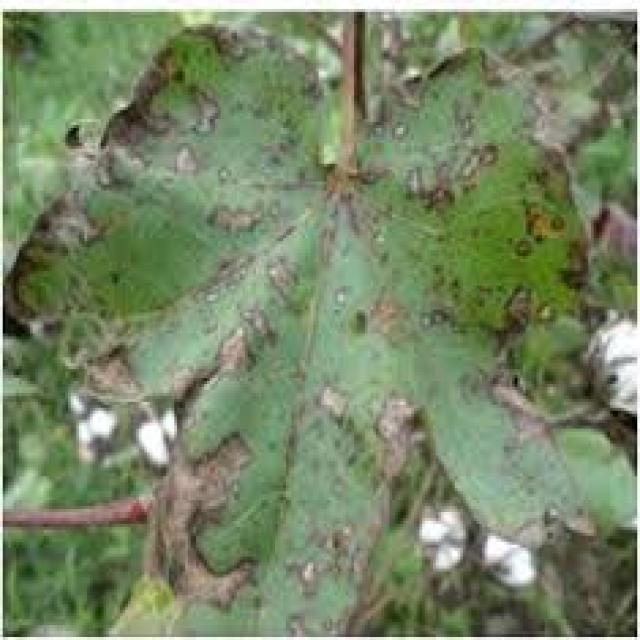Bacterial Blight: (158, 126, 555, 487)
